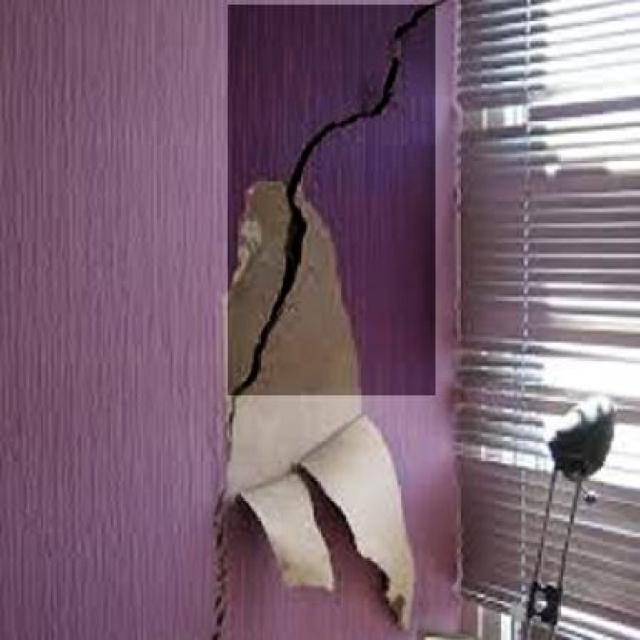Crack: (227, 0, 438, 389)
